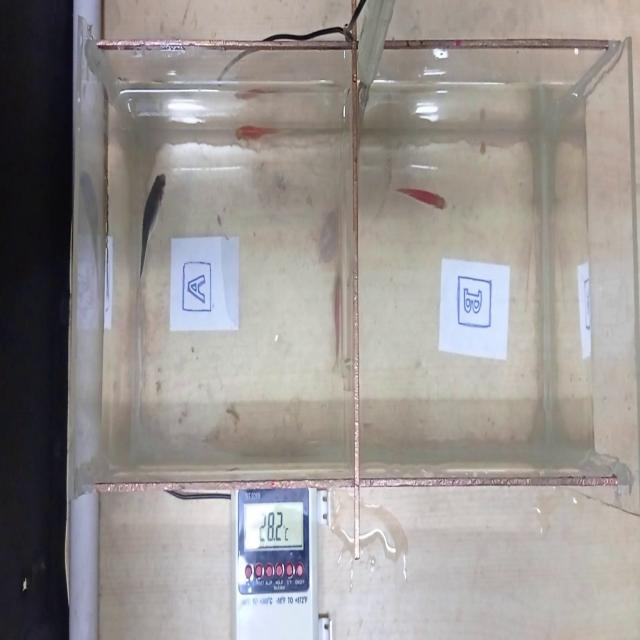Fish A1: (131, 162, 175, 302)
Fish A2: (230, 110, 280, 158)
Fish A3: (329, 251, 349, 387)
Fish B: (391, 172, 456, 241)
